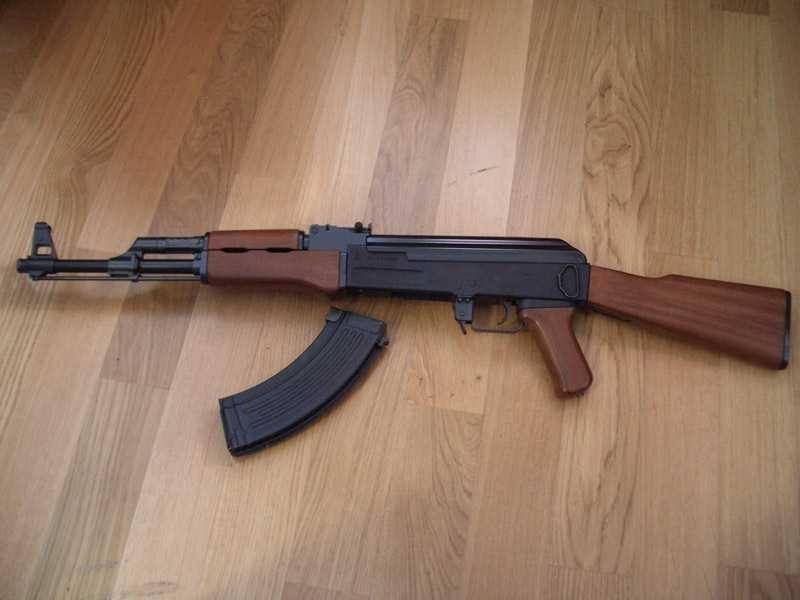heavyweapon: (0, 154, 799, 452)
